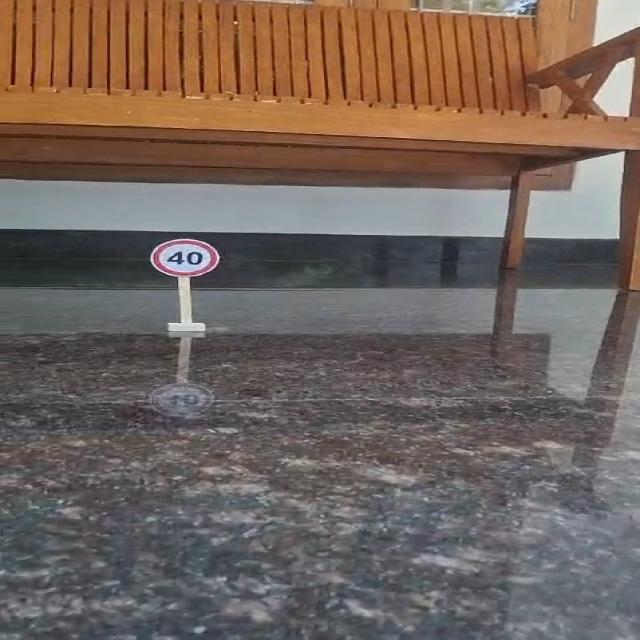Speed40: (146, 236, 226, 280)
